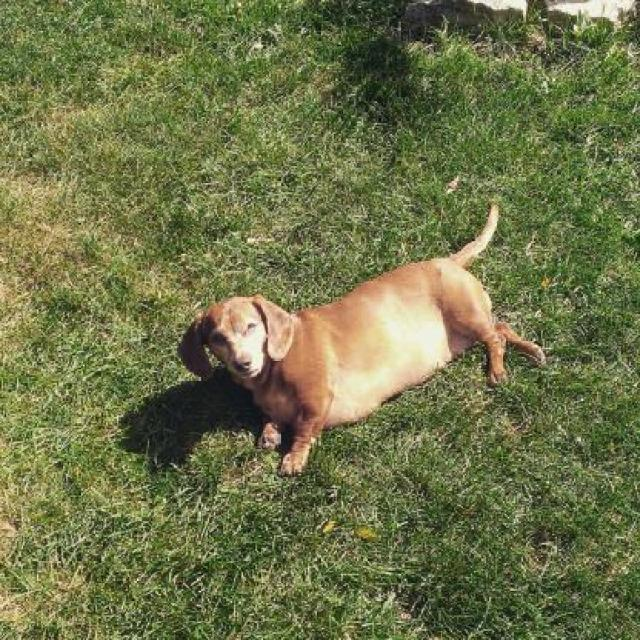Dog: (177, 200, 548, 480)
